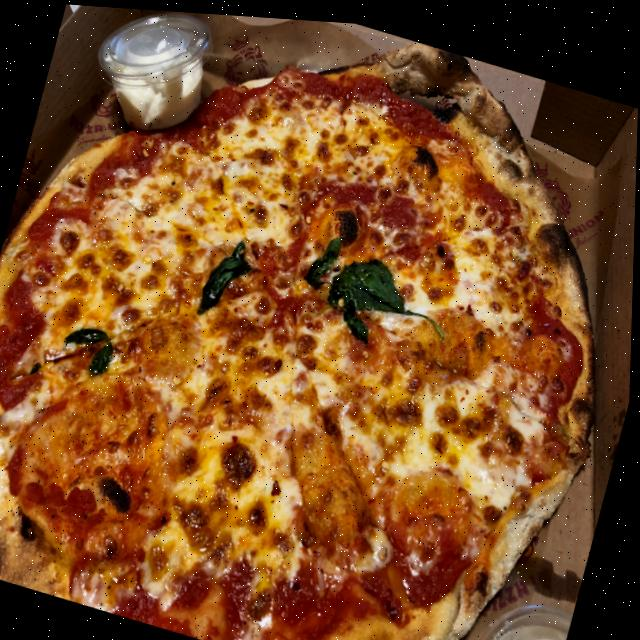basil: (319, 233, 465, 365), (196, 228, 269, 321), (58, 315, 123, 382), (301, 224, 346, 294)
pizza: (0, 0, 640, 640)
